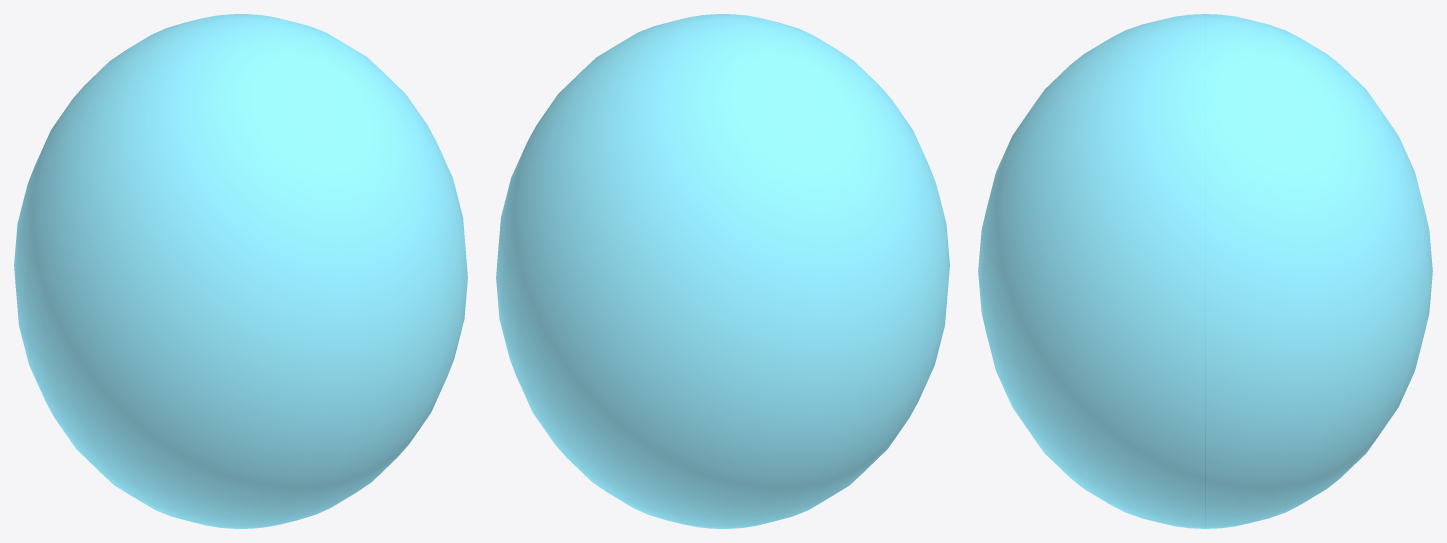
Rendered from reagent-droplet.glb.
3 renders of one model, left to right at view 1: azimuth 30°, elevation 25°; view 2: azimuth 150°, elevation 25°; view 3: azimuth 270°, elevation 25°, orthographic.
Parts seen in each view (by area): view 1: pickup_reagent_droplet; view 2: pickup_reagent_droplet; view 3: pickup_reagent_droplet.
Part boxes in pixels (x1,y1,x2,y2): pickup_reagent_droplet: [14, 14, 467, 528]; pickup_reagent_droplet: [496, 14, 949, 528]; pickup_reagent_droplet: [978, 14, 1432, 528].
Bounding box in the file's own units: 1.16 × 1.35 × 1.16.
